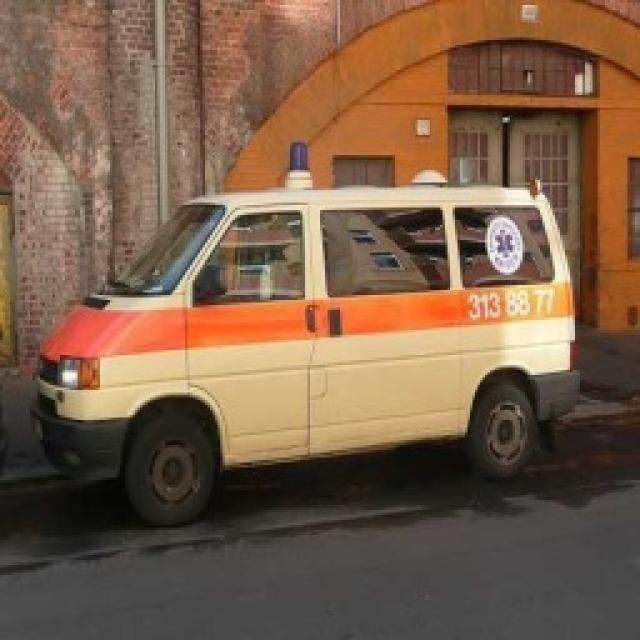emergency-vehicle: (35, 166, 585, 518)
